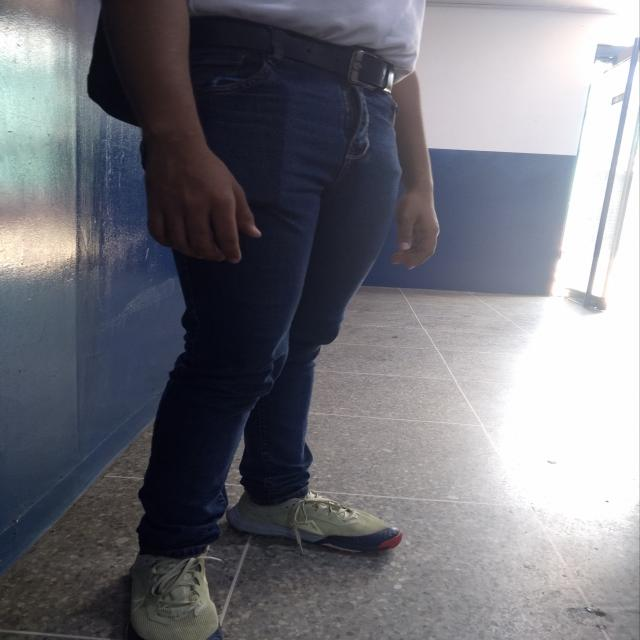pantalon_oscuro: (135, 49, 403, 560)
